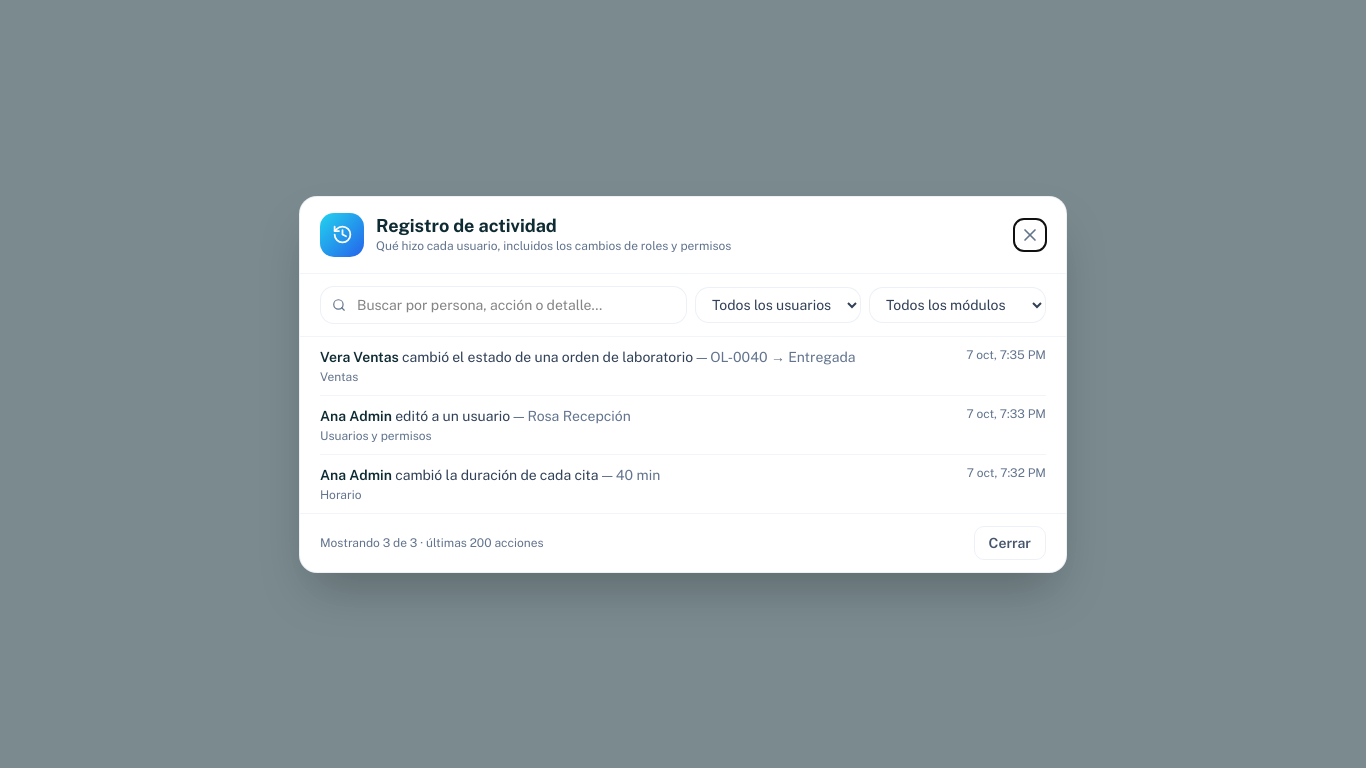
Test: Registro de actividad en la ventana estándar › filtra por usuario y por módulo; sin coincidencias ofrece quitar los filtros
The image size is (1366, 768).
Expected: the list named "Actividad" is shown, 300,336 -> 1066,512
Select "Ana Admin" in the dropdown named "Filtrar actividad por usuario" at [778, 304], box 695,286 -> 861,322
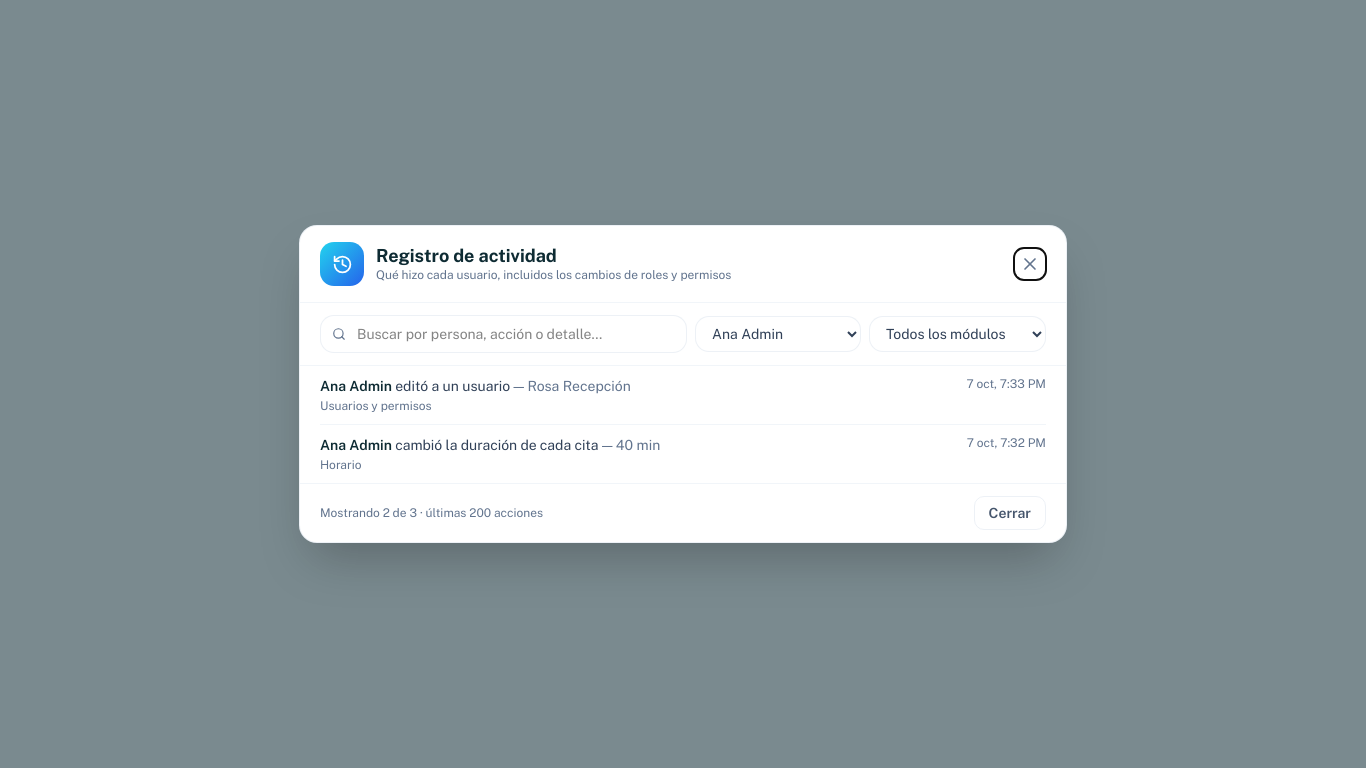
Now the number of list items is 2, box 320,366 -> 1046,425; 320,425 -> 1046,483
Select "Ventas" in the dropdown named "Filtrar actividad por módulo" at [958, 334], box 869,316 -> 1046,352
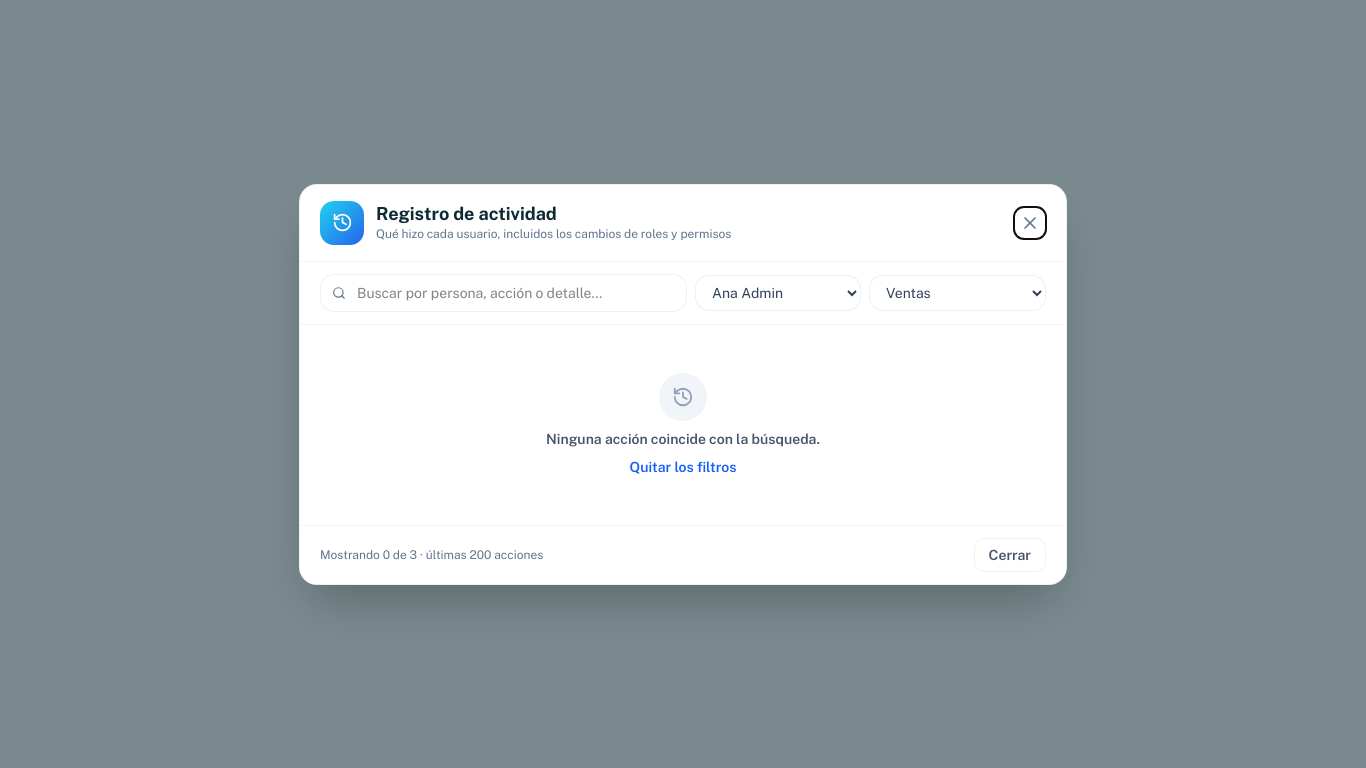
Now the list item "Ana Admin editó a un usuario— Rosa Recepción Usuarios y permisos 7 oct, 7:33 PM" is gone
Now the text "Ninguna acción coincide con la búsqueda." is shown, box 546,428 -> 820,448
Click the button "Quitar los filtros" at [683, 466], box 630,456 -> 736,476
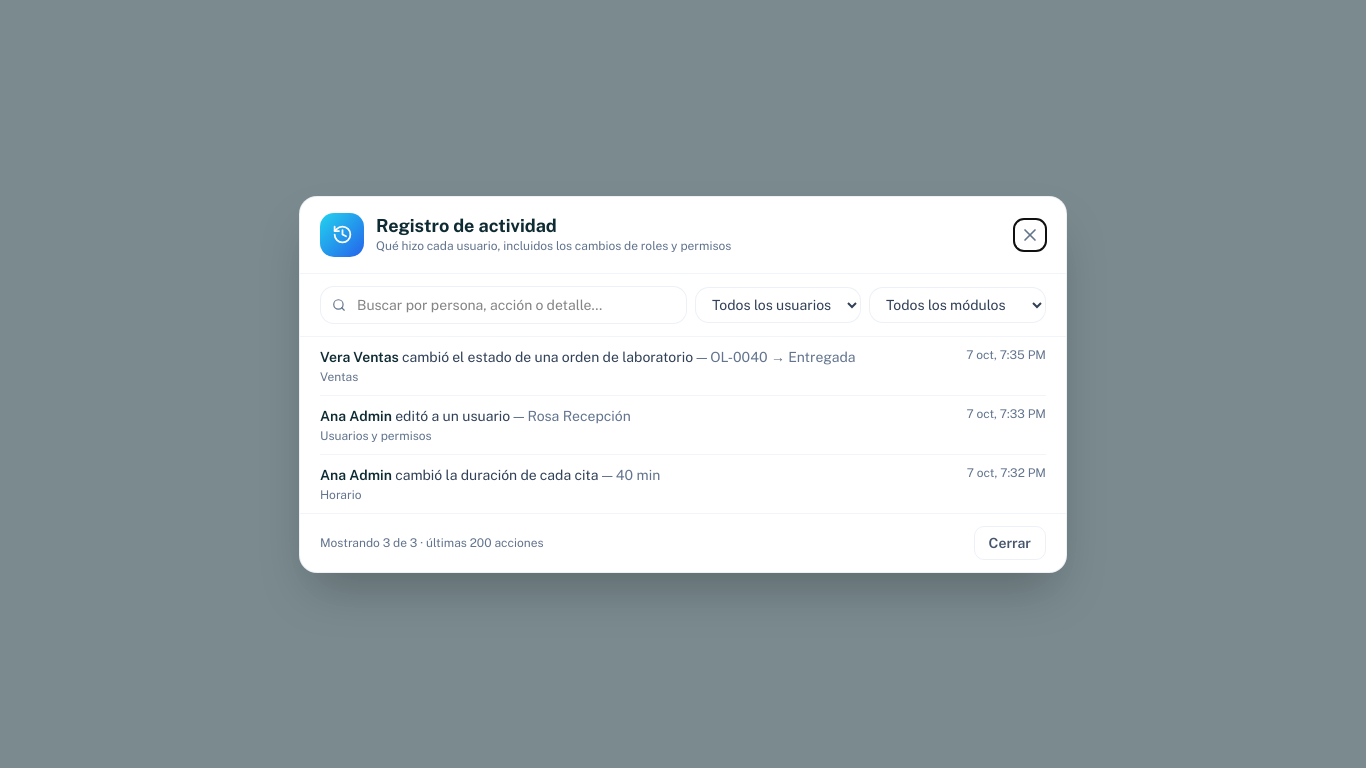
Now the number of list items is 3, box 320,336 -> 1046,396; 320,396 -> 1046,454; 320,454 -> 1046,512
